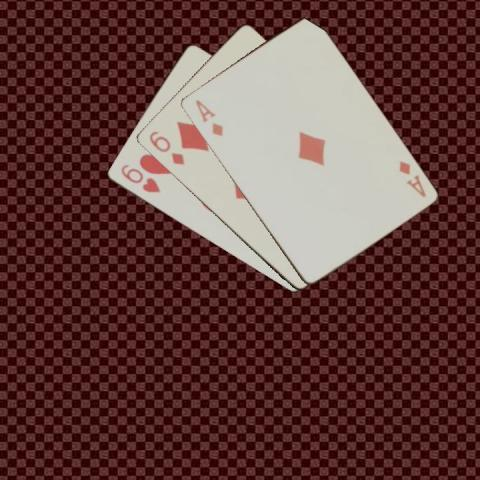6d: (145, 127, 186, 167)
6h: (118, 161, 162, 195)
Ad: (191, 96, 224, 138), (396, 158, 428, 199)
